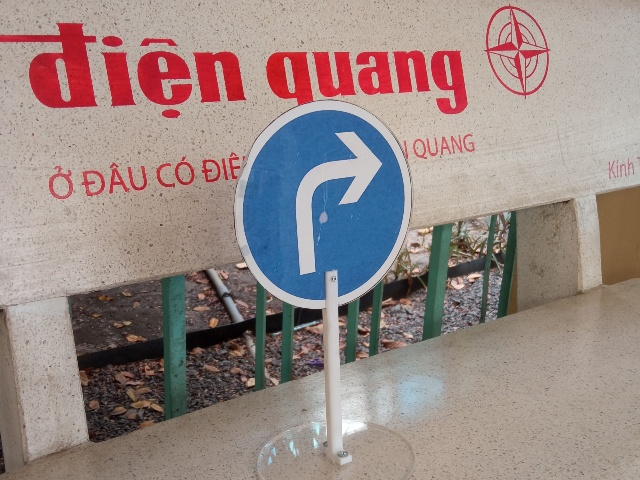Right_Sign: (234, 100, 413, 310)
